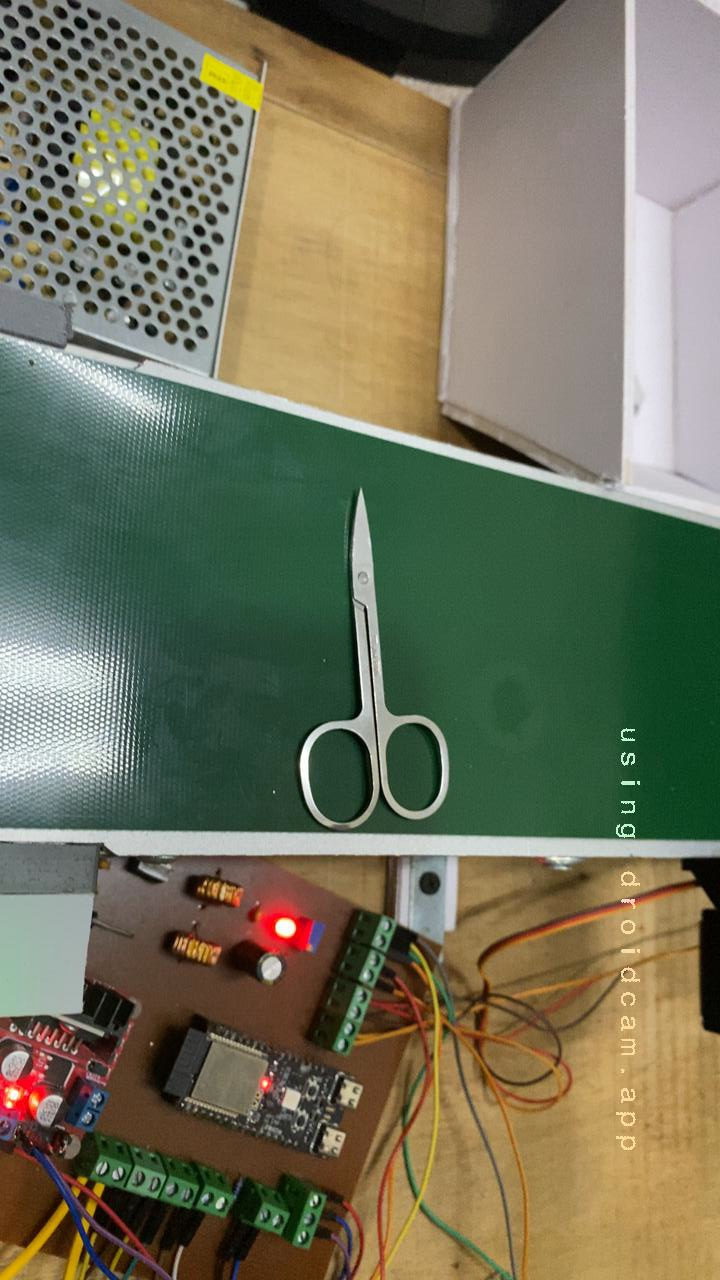scissor: (261, 469, 470, 842)
